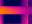Hotspot: (0, 7, 13, 14)
